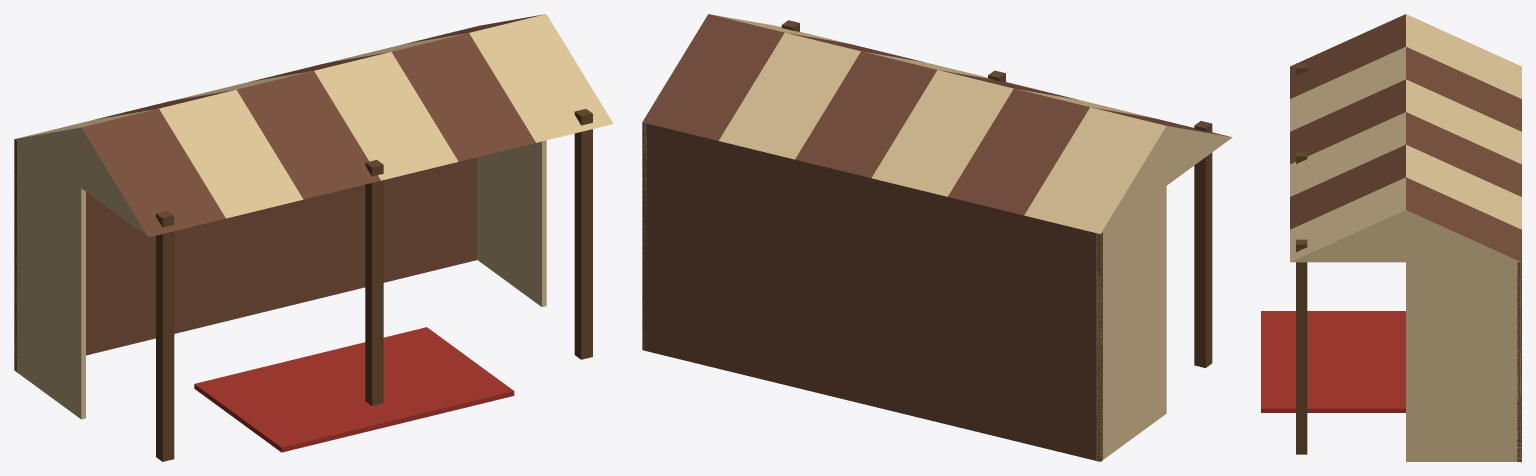
File: nomad_tent.glb
The picture shows the model from 3 angles, left to right: view 1: azimuth 30°, elevation 25°; view 2: azimuth 150°, elevation 25°; view 3: azimuth 270°, elevation 25°; orthographic projection. The views are drawn at different scales.
Visible parts, largest first — view 1: nomad_tent2; view 2: nomad_tent2; view 3: nomad_tent2.
Part boxes in pixels (<box>): nomad_tent2: <box>14,14,613,461</box>; nomad_tent2: <box>642,14,1232,461</box>; nomad_tent2: <box>1261,14,1521,461</box>.
Bounding box in the file's own units: 4 × 2.4 × 2.25.
